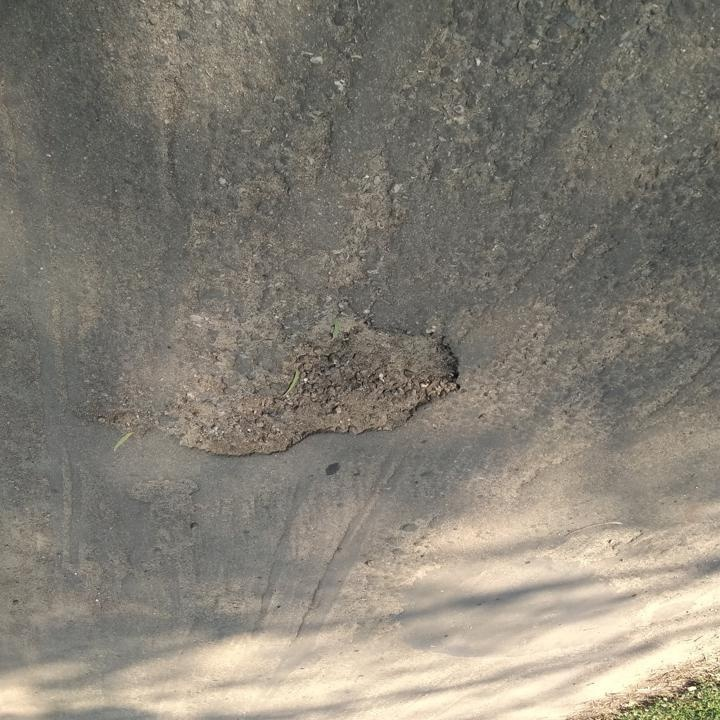pothole: (153, 302, 465, 462)
